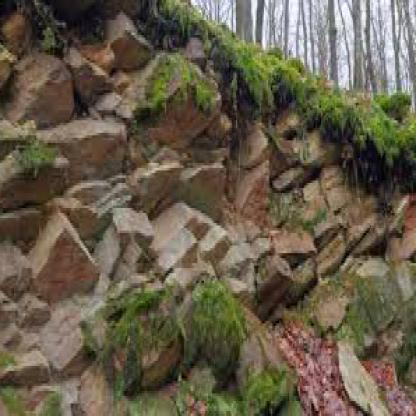Metamorphic_Quartize: (25, 201, 101, 298), (2, 50, 76, 120), (172, 148, 229, 218)
